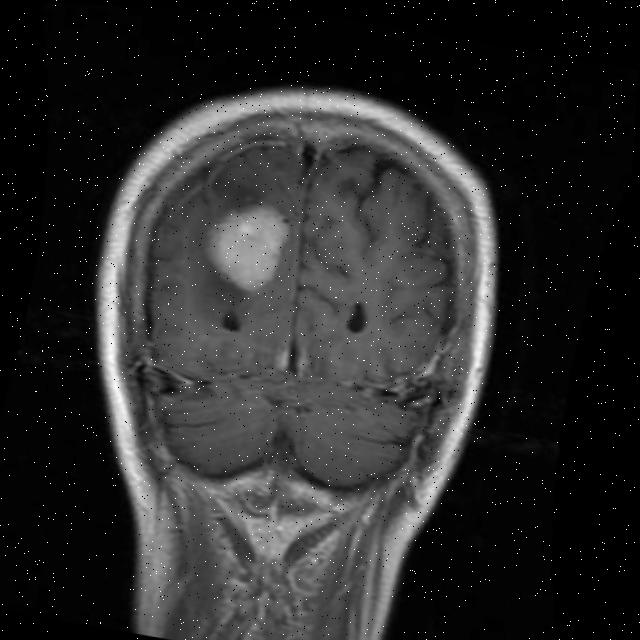Meningioma: (193, 192, 300, 300)
